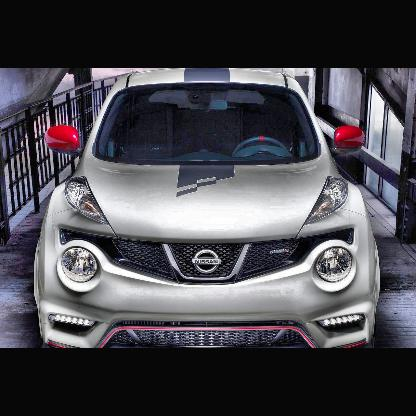Nissan Juke Hatchback 2012: (33, 69, 383, 347)
